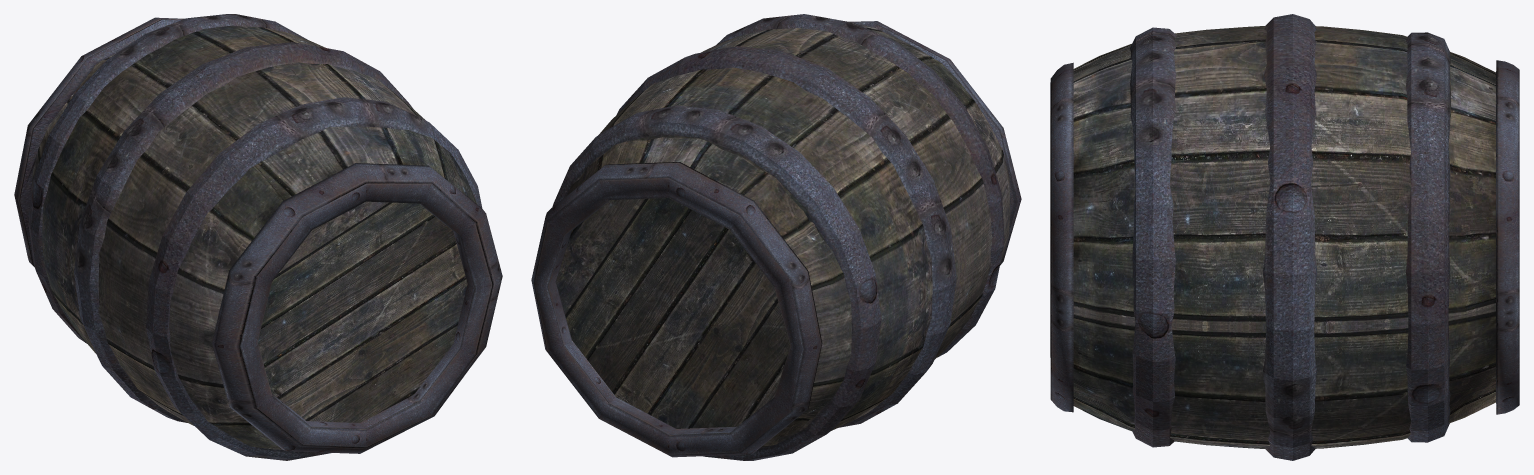
Rendered from nvwoodbarrel - rev1.obj.
3 renders of one model, left to right at view 1: azimuth 30°, elevation 25°; view 2: azimuth 150°, elevation 25°; view 3: azimuth 270°, elevation 25°, orthographic. The views are drawn at different scales.
Visible parts, largest first — view 1: NVWoodBarrel:0, Torus, Circle.001; view 2: NVWoodBarrel:0, Circle, Torus; view 3: NVWoodBarrel:0, Torus.
Boxes of the visible parts, x1,y1,x2,y2 form: NVWoodBarrel:0: (14, 17, 502, 453); Torus: (28, 14, 482, 460); Circle.001: (257, 201, 467, 422); NVWoodBarrel:0: (531, 21, 1021, 457); Circle: (556, 198, 790, 428); Torus: (552, 14, 1004, 460); NVWoodBarrel:0: (1050, 25, 1519, 448); Torus: (1129, 14, 1450, 460).
Bounding box in the file's own units: 59.67 × 59.67 × 62.4.
Materials: 2 (2 with a texture image).
